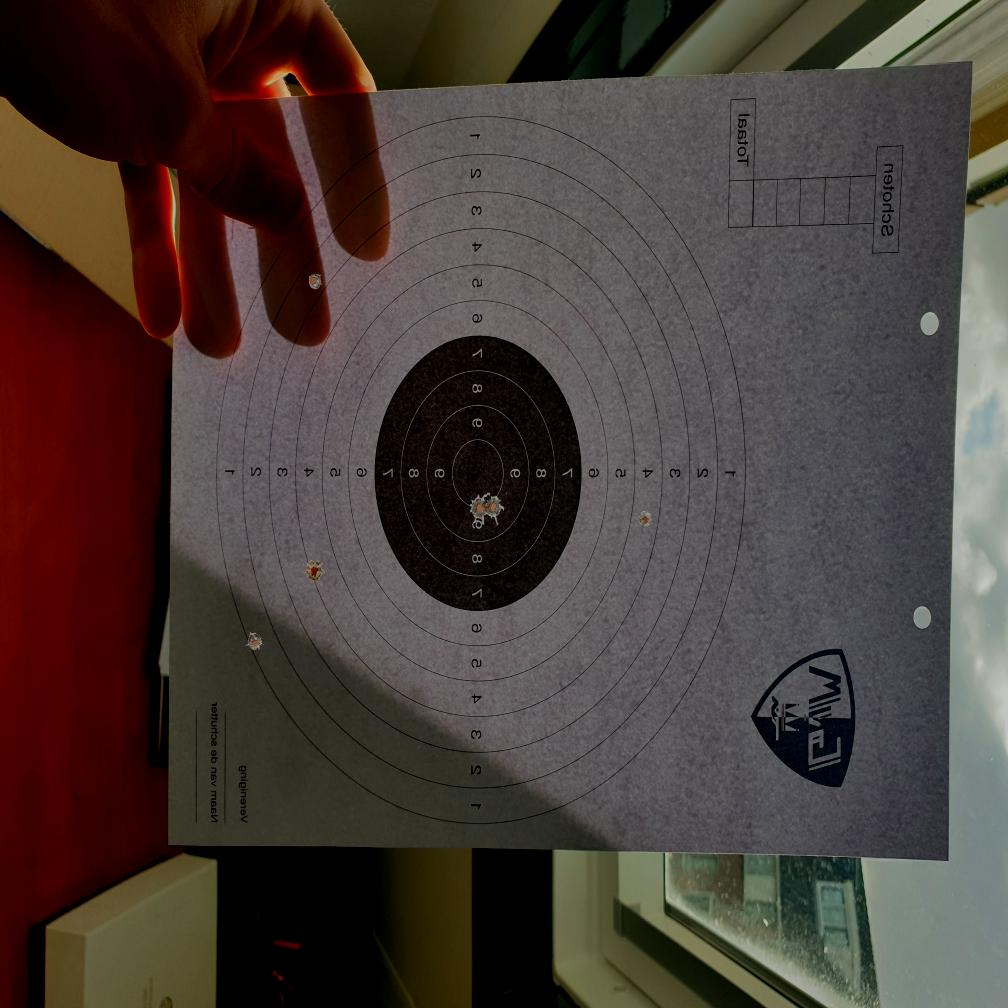1: (245, 630, 263, 652)
10: (469, 493, 489, 523), (485, 494, 502, 518)
2: (308, 273, 323, 290)
4: (304, 558, 326, 586), (638, 510, 653, 528)
Target: (213, 107, 749, 827)
black_contour: (373, 333, 582, 611)
